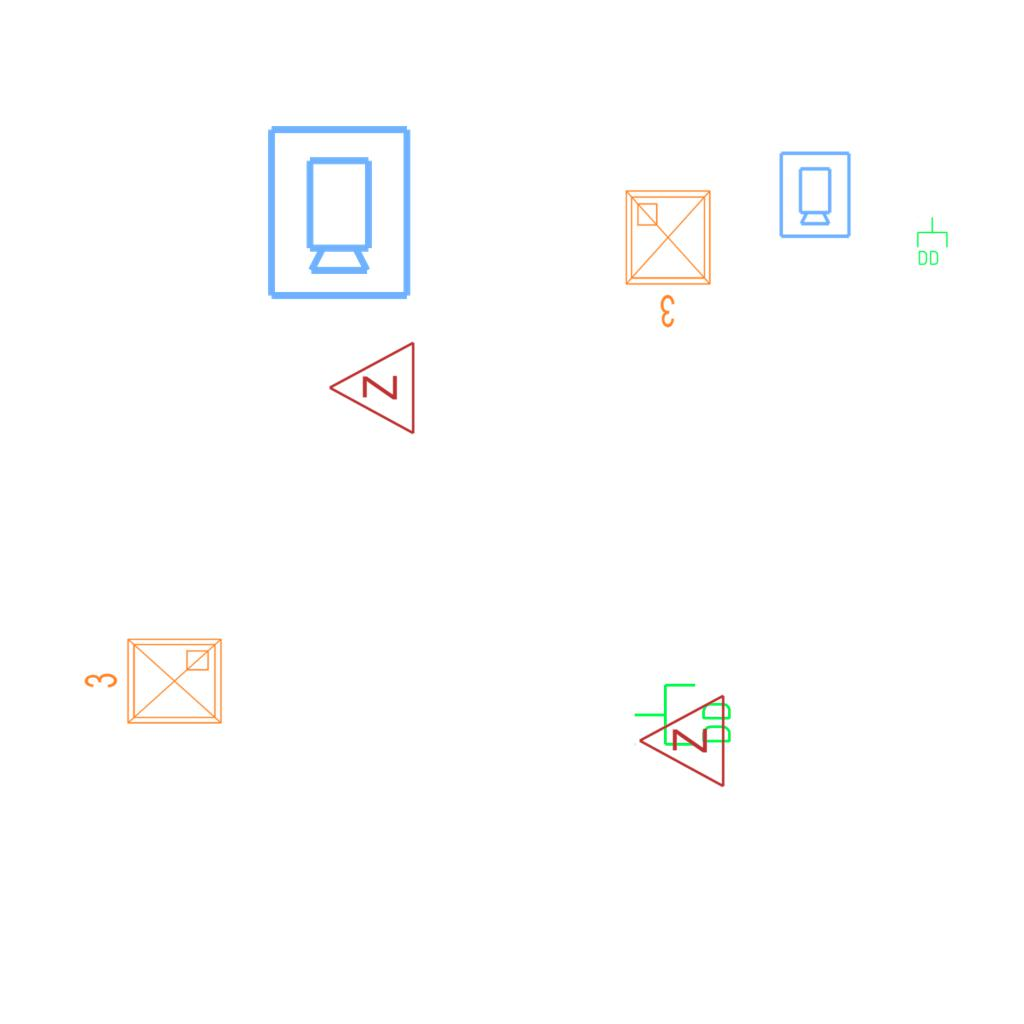Datenanschluss_zweifach: (632, 681, 735, 750), (915, 216, 949, 267)
Einbaudownlights_LED_Konferenzraeume: (618, 183, 722, 333), (79, 631, 229, 735)
KFO_Kamera_mit_Festobjektiv: (261, 121, 415, 303), (776, 149, 853, 240)
Zimmersignalleuchte: (322, 340, 422, 438), (632, 693, 732, 791)
